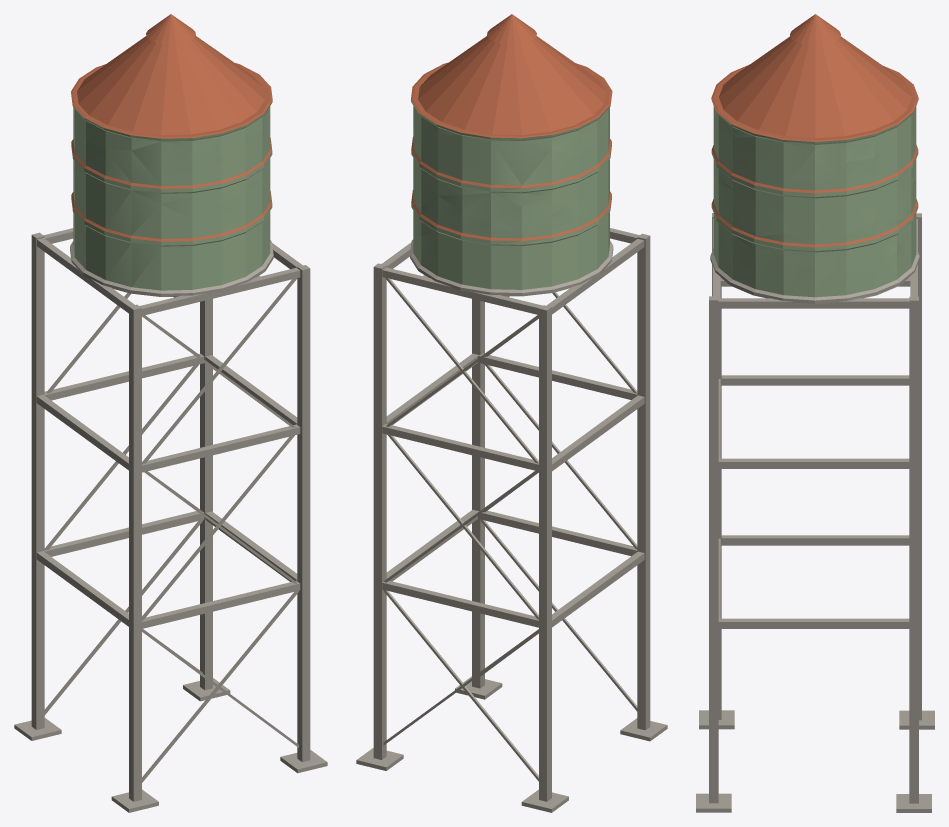
The model's file is water_tower.glb.
3 views of the same model, side by side, from view 1: azimuth 30°, elevation 25°; view 2: azimuth 150°, elevation 25°; view 3: azimuth 270°, elevation 25° (orthographic). The views are drawn at different scales.
Parts seen in each view (by area): view 1: water_tower; view 2: water_tower; view 3: water_tower.
Boxes of the visible parts, x1,y1,x2,y2 form: water_tower: (14, 14, 327, 812); water_tower: (356, 14, 667, 812); water_tower: (696, 14, 934, 812).
Size of the model in its own units: 4.51 by 16 by 4.62.
